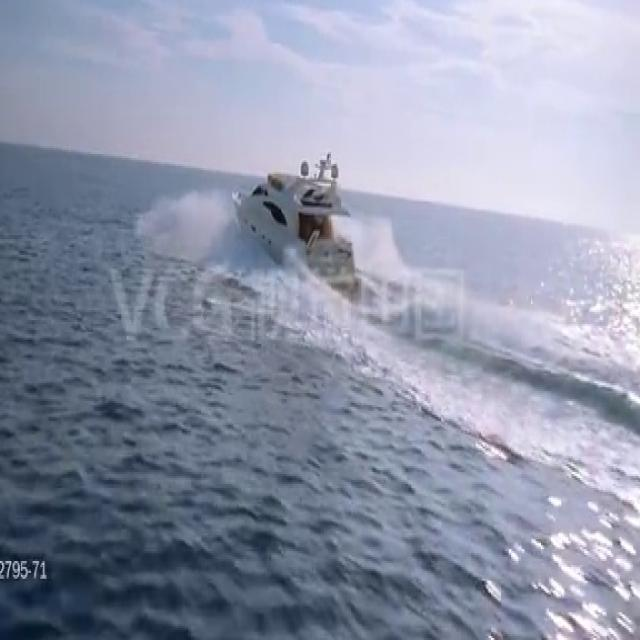houseboat: (233, 150, 358, 296)
